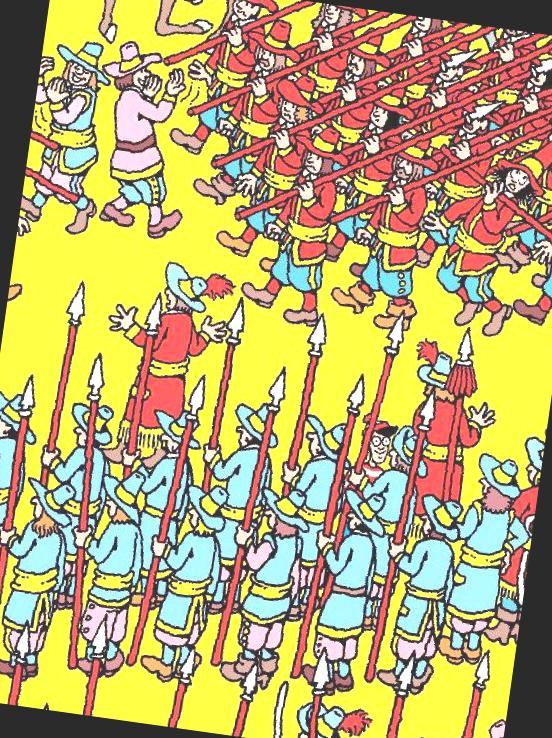waldo: (355, 410, 399, 466)
